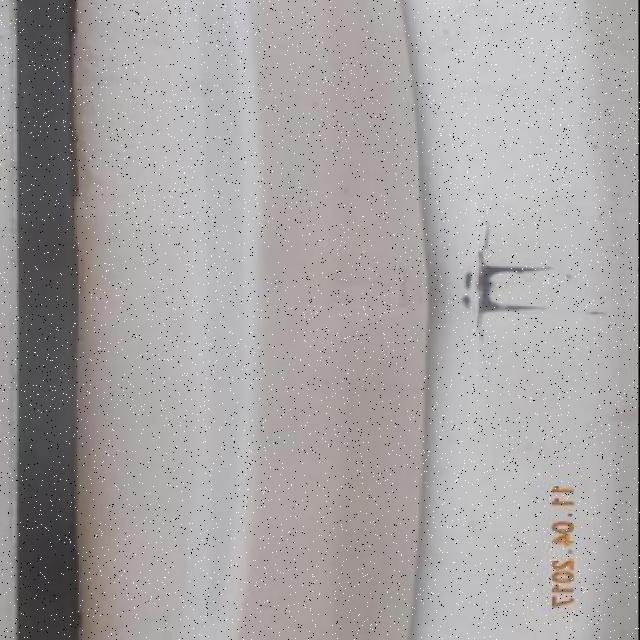damage: (461, 218, 565, 339)
